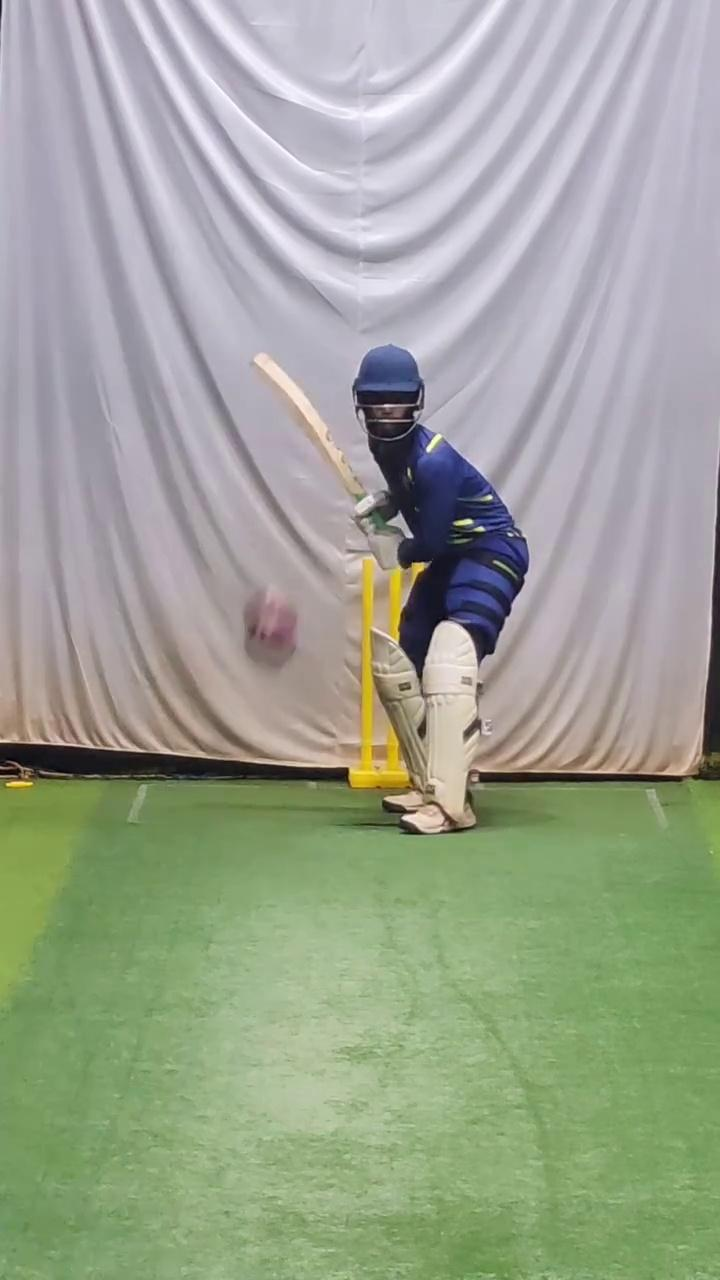bat: (247, 341, 366, 509)
